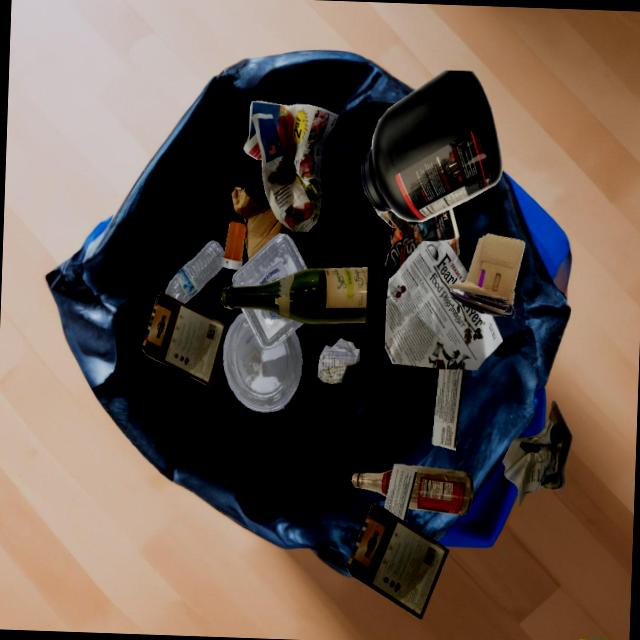cardboard: (345, 503, 448, 619), (141, 292, 226, 386), (449, 233, 525, 318), (230, 186, 291, 261)
glass: (221, 267, 368, 324), (408, 465, 473, 514), (351, 469, 392, 496), (303, 259, 303, 260)
paper: (384, 240, 502, 370), (243, 100, 338, 232), (502, 400, 571, 507), (374, 207, 459, 267), (431, 368, 465, 450), (384, 463, 418, 521), (318, 338, 360, 383)
plastic: (360, 70, 502, 221), (222, 312, 302, 412), (232, 232, 307, 286), (165, 240, 224, 303), (240, 308, 303, 350), (220, 221, 246, 269)
